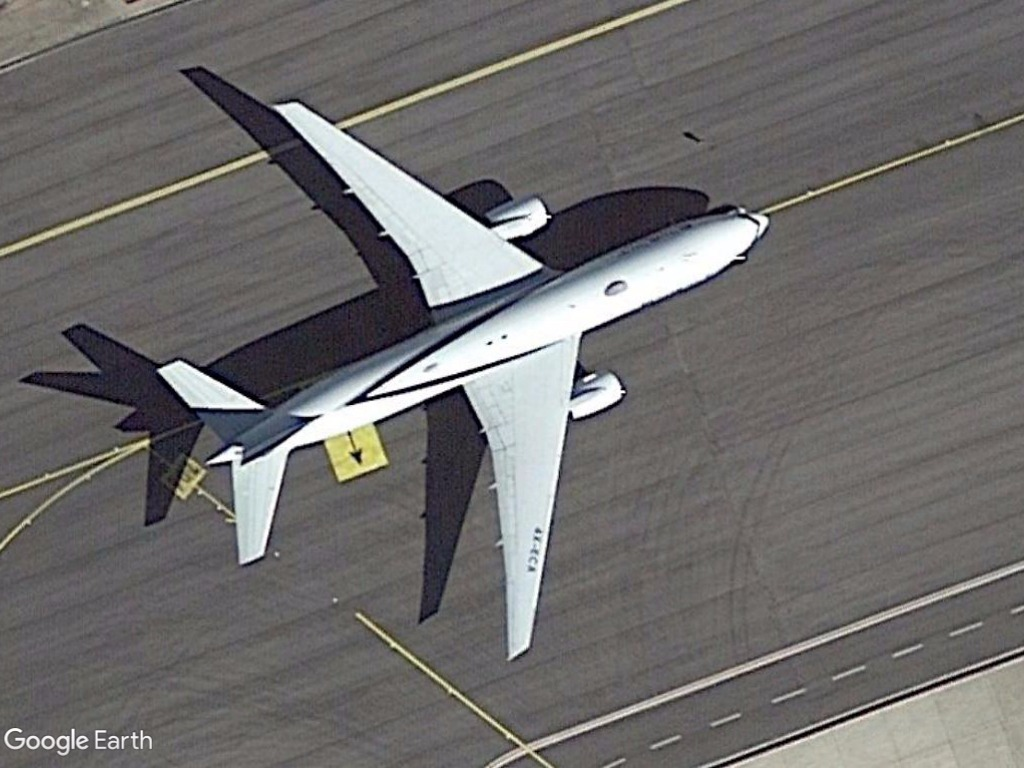airliner: (149, 92, 779, 680)
